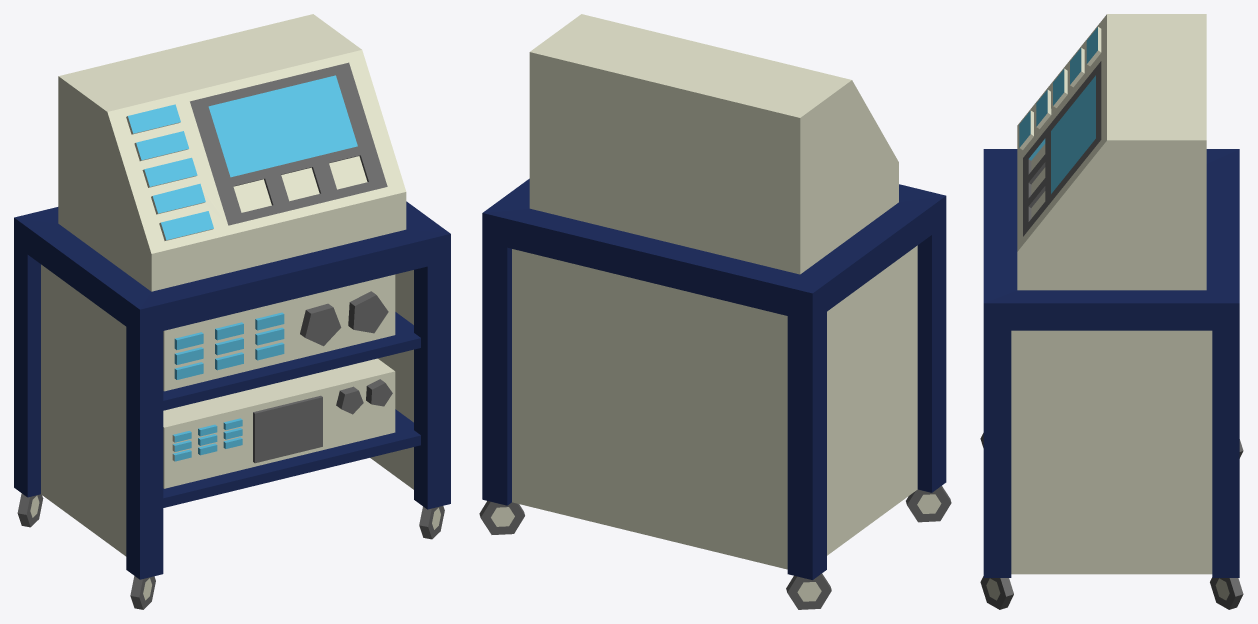
The model's file is pacient-monitor02-hospital.fbx.
The picture shows the model from 3 angles, left to right: view 1: azimuth 30°, elevation 25°; view 2: azimuth 150°, elevation 25°; view 3: azimuth 270°, elevation 25°; orthographic projection. The views are drawn at different scales.
Visible parts, largest first — view 1: pacient-monitor02-hospital; view 2: pacient-monitor02-hospital; view 3: pacient-monitor02-hospital.
Part boxes in pixels (x1,y1,x2,y2): pacient-monitor02-hospital: (14,14,450,609); pacient-monitor02-hospital: (479,14,951,609); pacient-monitor02-hospital: (980,14,1243,609).
Bounding box in the file's own units: 167 × 222 × 116.
